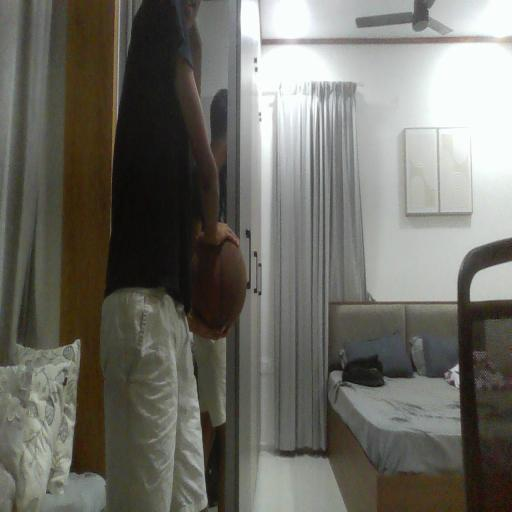basketball: (192, 241, 246, 328)
